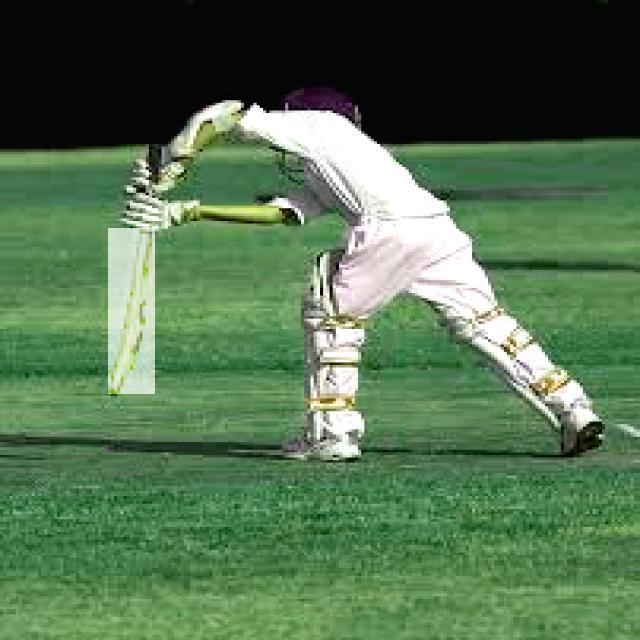bat: (108, 226, 154, 394)
toe: (96, 381, 132, 407)
